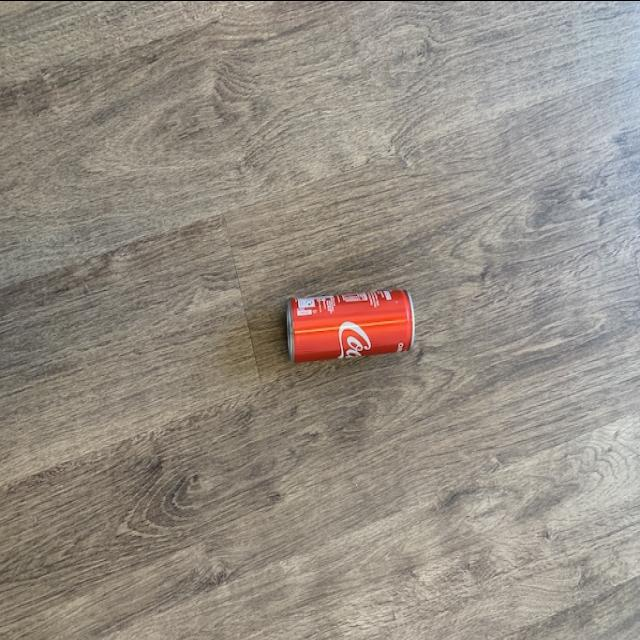Aluminum Can: (264, 269, 450, 380)
